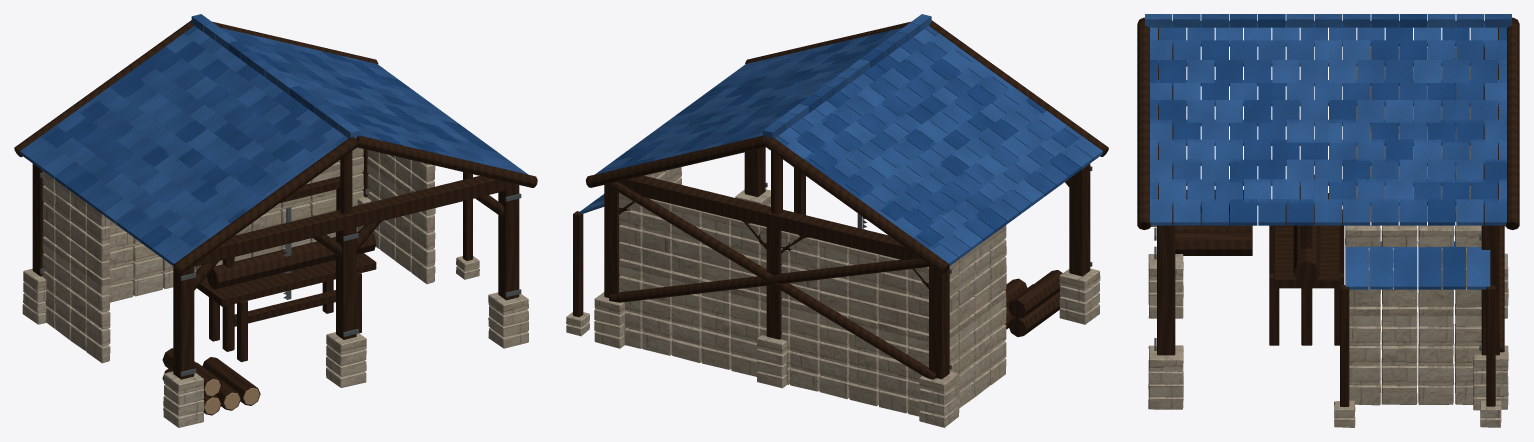
The model's file is SawmillRefined104.glb.
The picture shows the model from 3 angles, left to right: view 1: azimuth 30°, elevation 25°; view 2: azimuth 150°, elevation 25°; view 3: azimuth 270°, elevation 25°; orthographic projection. The views are drawn at different scales.
Parts seen in each view (by area): view 1: Sawmill layered blue slate, Sawmill limestone footings and workshop, Sawmill oak frame, Sawmill functional saw and timber, Sawmill iron joinery; view 2: Sawmill layered blue slate, Sawmill limestone footings and workshop, Sawmill oak frame, Sawmill functional saw and timber; view 3: Sawmill layered blue slate, Sawmill limestone footings and workshop, Sawmill oak frame, Sawmill functional saw and timber.
Boxes of the visible parts, box(x1,y1,x2,y2) form: Sawmill layered blue slate: box(20, 14, 527, 266); Sawmill limestone footings and workshop: box(22, 147, 528, 427); Sawmill oak frame: box(14, 20, 537, 379); Sawmill functional saw and timber: box(162, 231, 376, 415); Sawmill iron joinery: box(39, 173, 521, 376); Sawmill layered blue slate: box(578, 14, 1102, 266); Sawmill limestone footings and workshop: box(566, 167, 1100, 427); Sawmill oak frame: box(573, 20, 1108, 379); Sawmill functional saw and timber: box(1004, 270, 1062, 336); Sawmill layered blue slate: box(1145, 14, 1511, 289); Sawmill limestone footings and workshop: box(1148, 46, 1508, 427); Sawmill oak frame: box(1137, 17, 1519, 406); Sawmill functional saw and timber: box(1175, 174, 1344, 345).
Bounding box in the file's own units: 9.54 × 6.01 × 7.06.
Materials: 14 (12 with a texture image).
